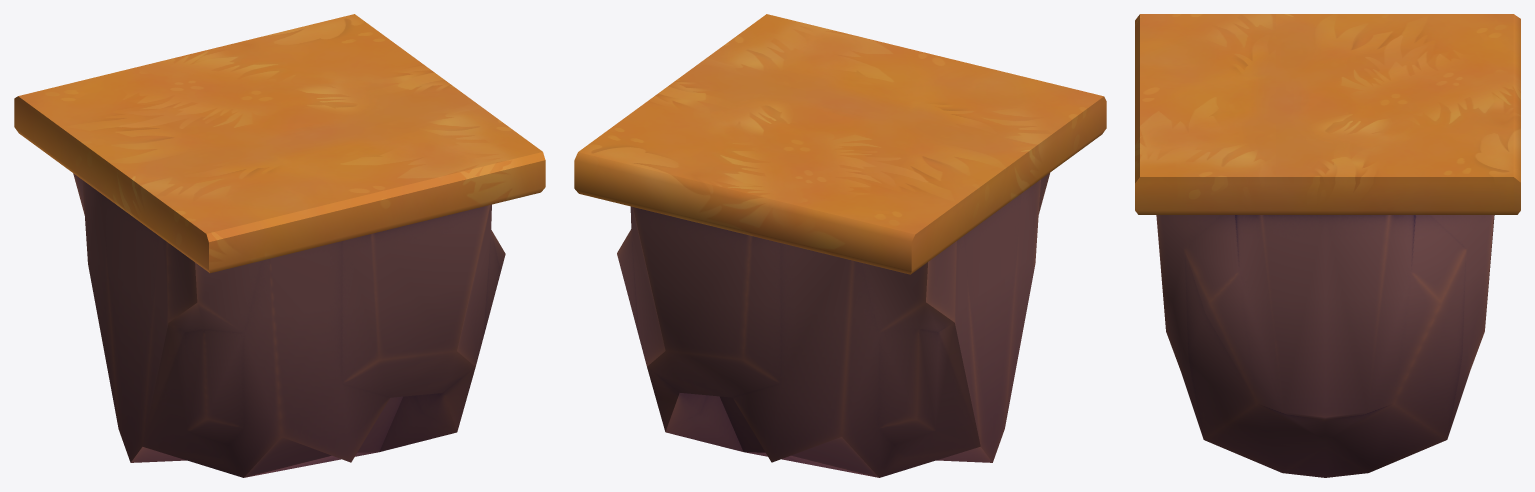
File: 2 Side.FBX
3 views of the same model, side by side, from view 1: azimuth 30°, elevation 25°; view 2: azimuth 150°, elevation 25°; view 3: azimuth 270°, elevation 25° (orthographic).
Visible parts, largest first — view 1: Side001; view 2: Side001; view 3: Side001.
Boxes of the visible parts, box(x1,y1,x2,y2) form: Side001: box(14, 14, 545, 477); Side001: box(574, 14, 1106, 477); Side001: box(1135, 14, 1520, 477).
Bounding box in the file's own units: 10.82 × 10.63 × 9.94.
